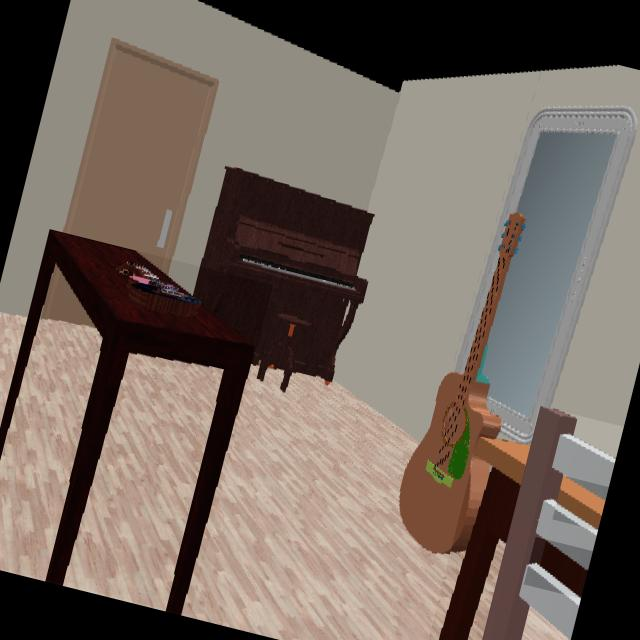chair: (481, 407, 615, 640)
table: (0, 230, 254, 614), (438, 440, 530, 640), (535, 537, 587, 598), (556, 476, 605, 530)
